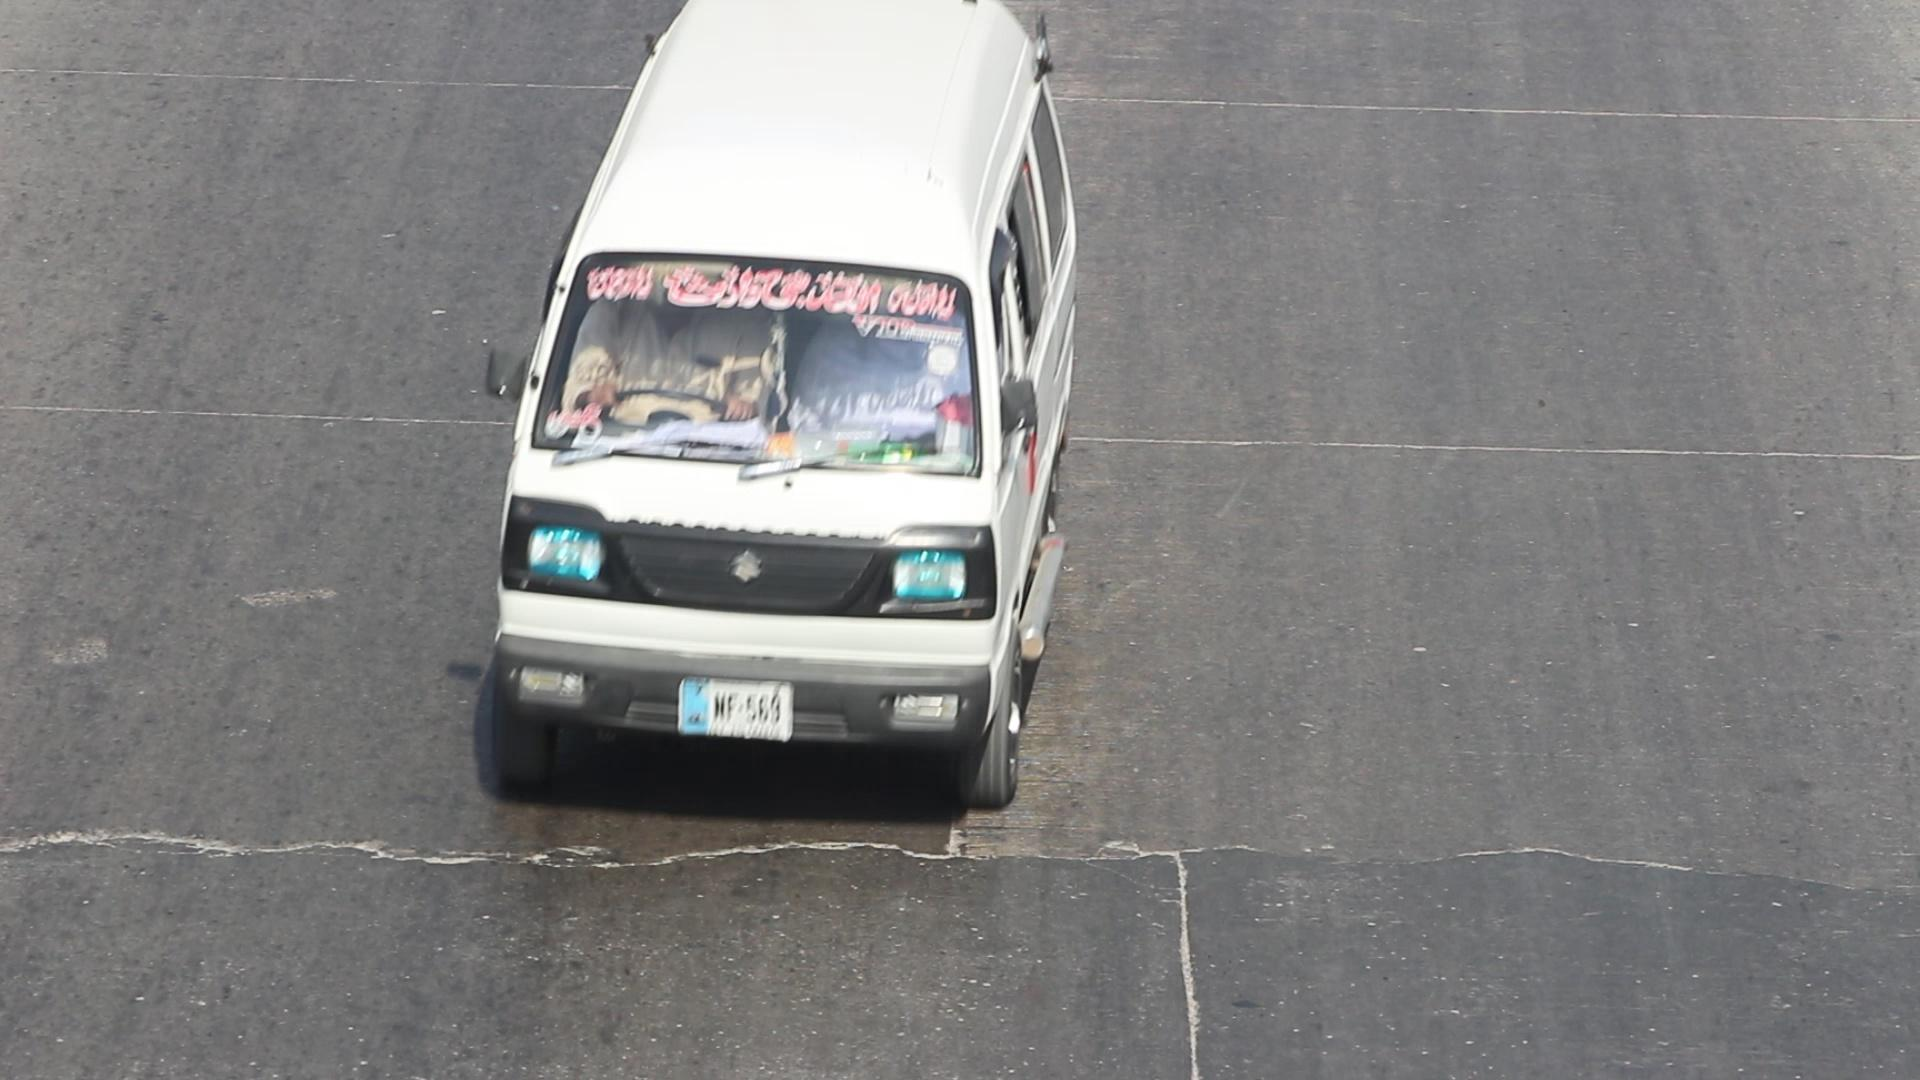windshield: (517, 233, 988, 491)
